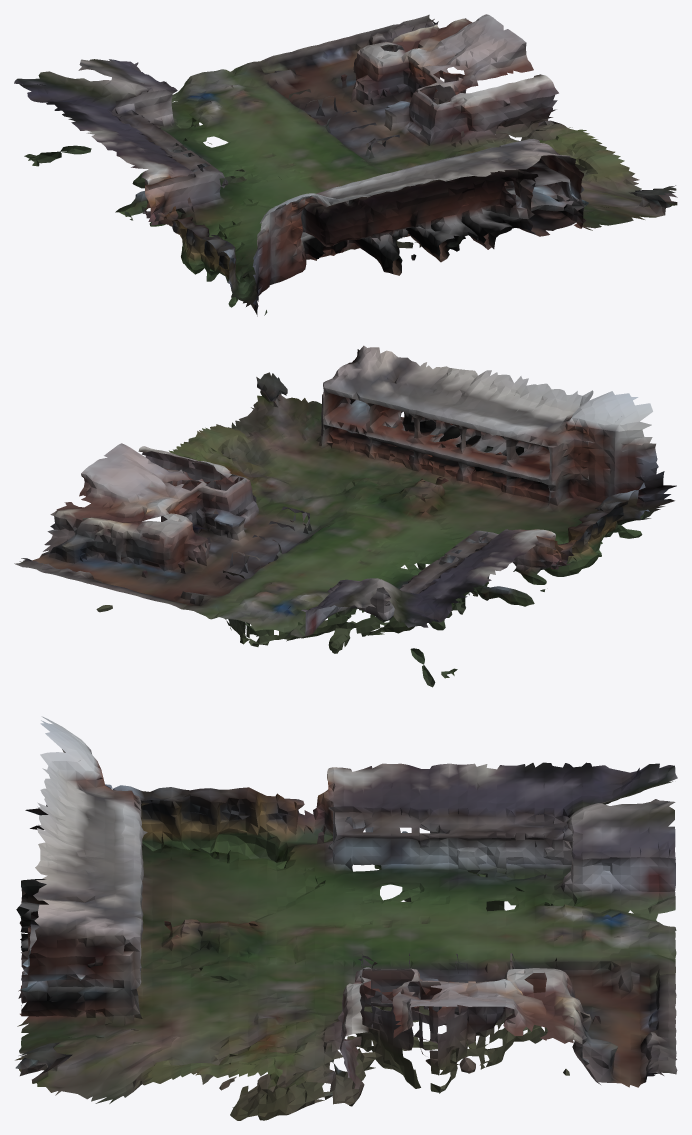
Rendered from asset.glb.
3 renders of one model, top to bottom at view 1: azimuth 30°, elevation 25°; view 2: azimuth 150°, elevation 25°; view 3: azimuth 270°, elevation 25°, orthographic. The views are drawn at different scales.
Parts seen in each view (by area): view 1: openfield_simpler; view 2: openfield_simpler; view 3: openfield_simpler.
Part boxes in pixels (bbox=[...]): openfield_simpler: bbox=[14, 14, 677, 316]; openfield_simpler: bbox=[14, 345, 676, 687]; openfield_simpler: bbox=[15, 716, 677, 1120].
Bounding box in the file's own units: 7.56 × 2.24 × 7.79.
